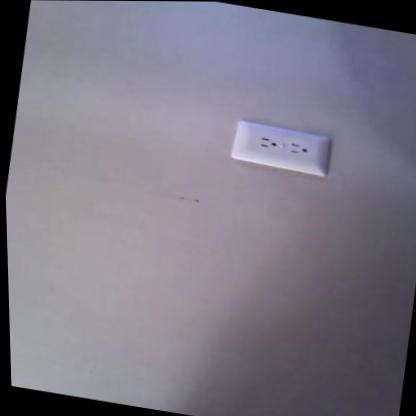OUTLET: (229, 119, 332, 176)
